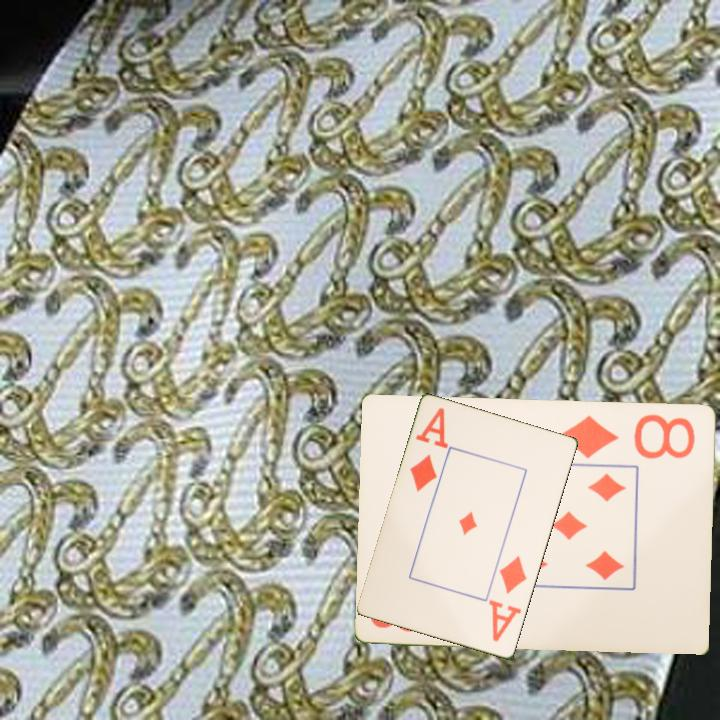8d: (555, 410, 698, 462)
Ad: (485, 552, 530, 645), (406, 404, 450, 495)
